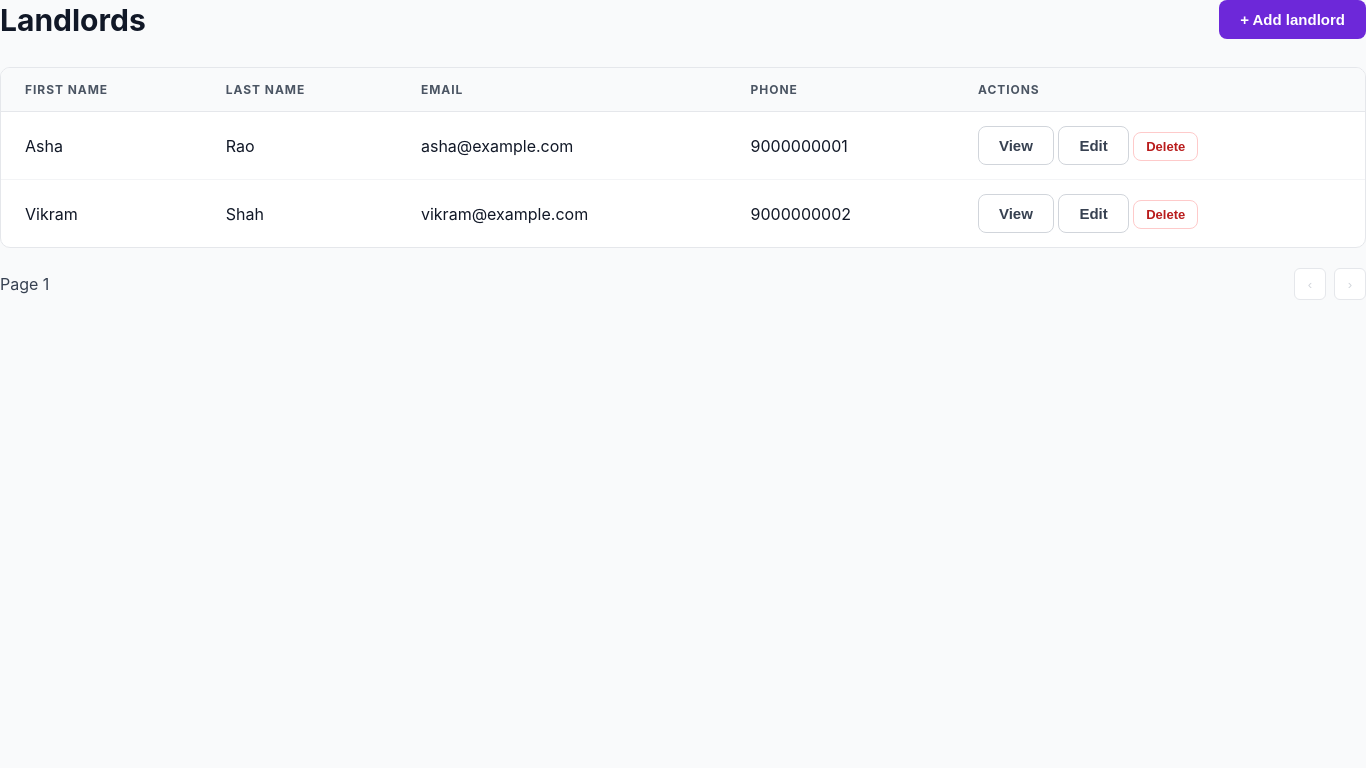
Test: Landlords › opens a read-only Modal with the landlord values when View is clicked
Click the button "View" in the row of "Rao": (1016, 146) top-left (978, 126), bottom-right (1054, 165)
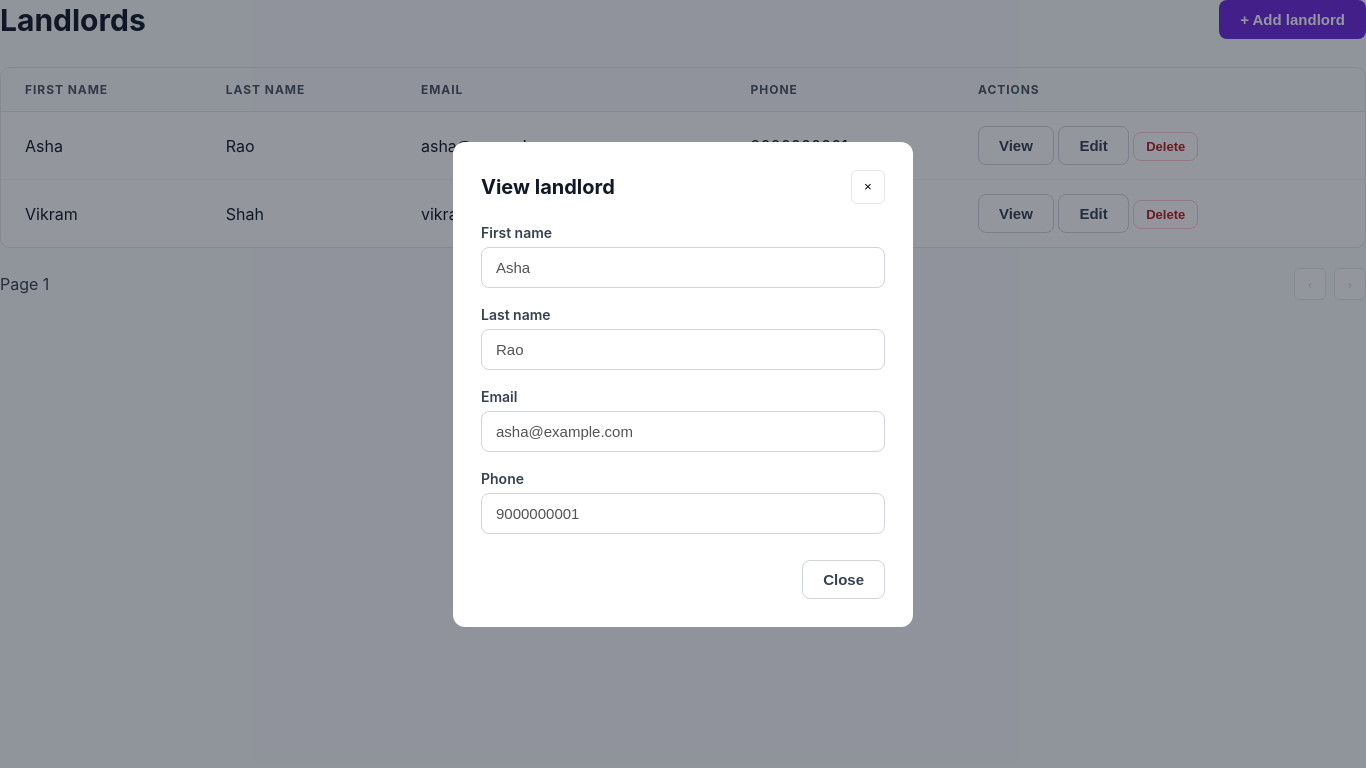
Now the heading "View landlord" is shown, box top-left (481, 174), bottom-right (615, 198)
Now the field showing "Asha" is shown, box top-left (481, 246), bottom-right (885, 288)
Now the field showing "Rao" is shown, box top-left (481, 328), bottom-right (885, 370)
